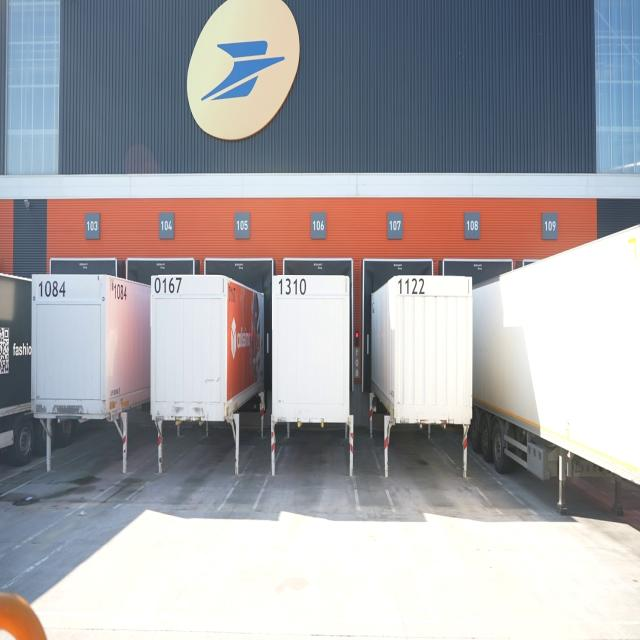Code: (36, 276, 70, 301), (396, 272, 426, 298), (274, 280, 308, 300), (152, 278, 185, 298), (109, 279, 129, 304)
